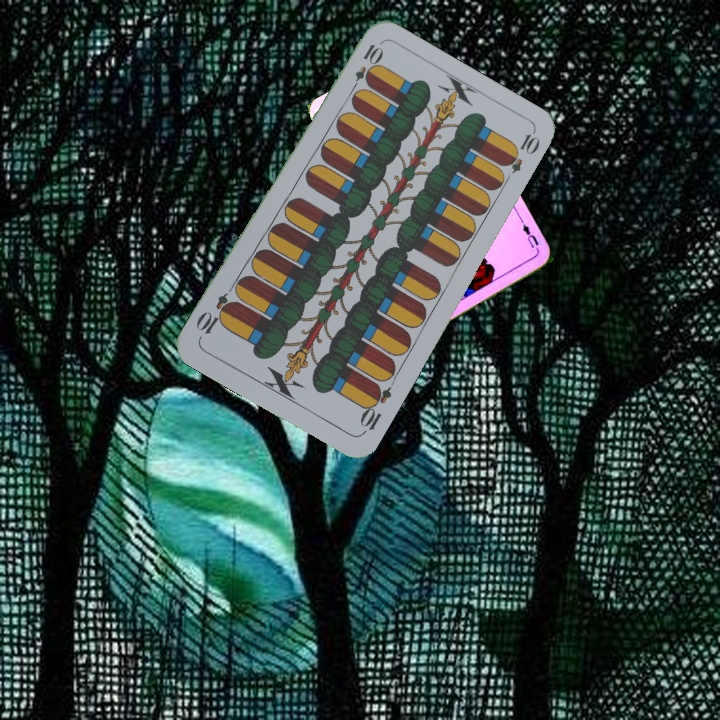E10: (355, 380, 394, 437), (346, 39, 384, 96)
EU: (517, 216, 542, 254)
